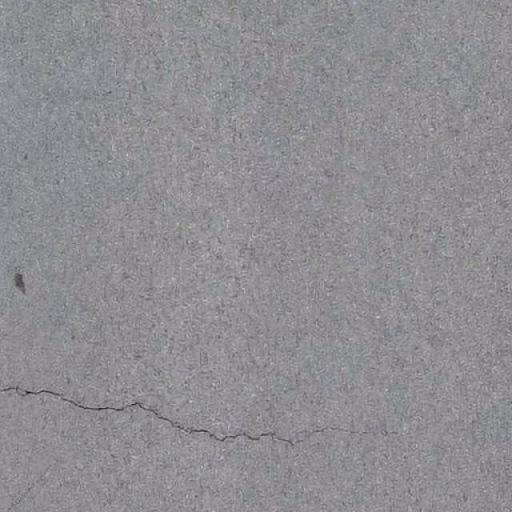moderate crack: (0, 365, 309, 454)
